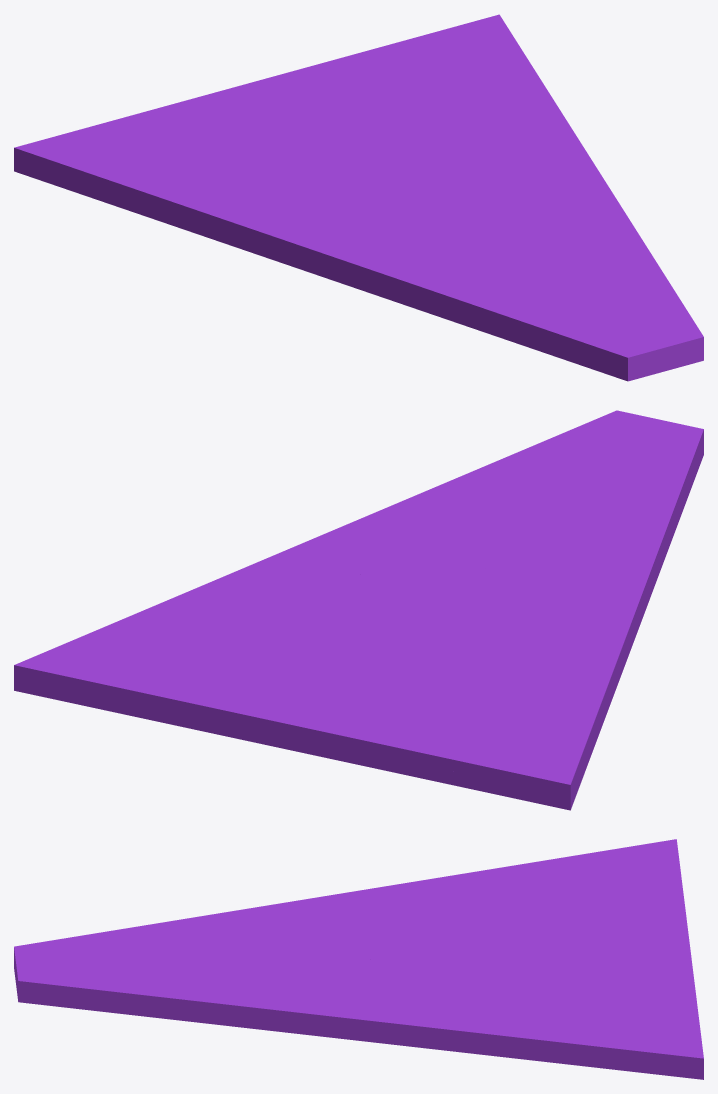
Rendered from StairsStep_39_chunks.fbx.
3 views of the same model, one above another, from view 1: azimuth 30°, elevation 25°; view 2: azimuth 150°, elevation 25°; view 3: azimuth 270°, elevation 25° (orthographic). The views are drawn at different scales.
Visible parts, largest first — view 1: StairsStep_39_0, StairsStep_39_2, StairsStep_39_1, StairsStep_39_3; view 2: StairsStep_39_0, StairsStep_39_2, StairsStep_39_1, StairsStep_39_3; view 3: StairsStep_39_0, StairsStep_39_2, StairsStep_39_3, StairsStep_39_1.
Boxes of the visible parts, x1,y1,x2,y2 form: StairsStep_39_0: (131,14,574,205); StairsStep_39_2: (14,115,464,278); StairsStep_39_1: (329,222,703,381); StairsStep_39_3: (462,133,688,313); StairsStep_39_0: (14,571,471,789); StairsStep_39_2: (437,567,644,810); StairsStep_39_1: (491,410,703,627); StairsStep_39_3: (236,428,573,576); StairsStep_39_0: (369,892,703,1079); StairsStep_39_2: (310,839,683,959); StairsStep_39_3: (67,954,451,1048); StairsStep_39_1: (14,898,337,1011).
Bounding box in the file's own units: 396 × 17.94 × 526.
